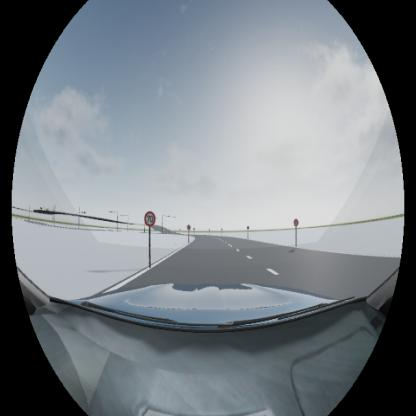Speed Limit 70: (144, 211, 156, 226)
